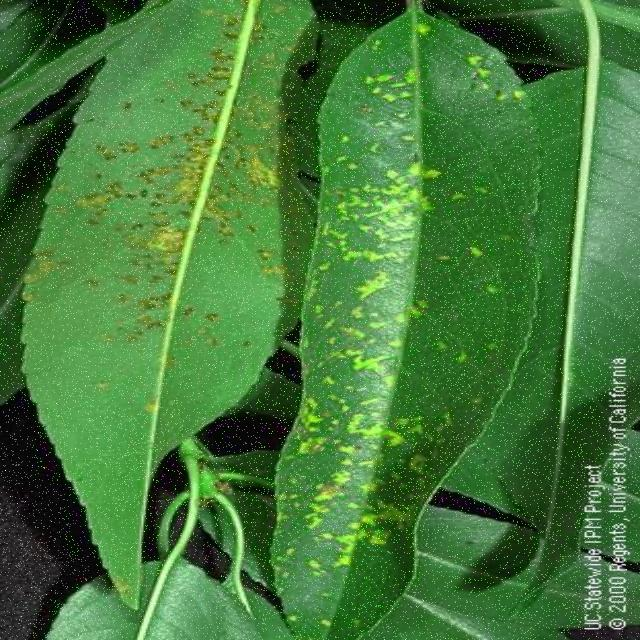shot_hole: (284, 1, 587, 612), (5, 0, 308, 611)
